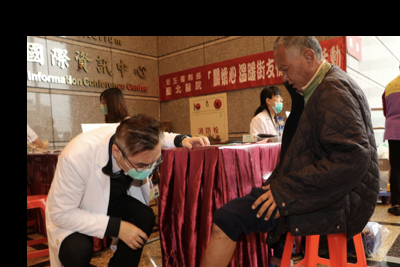with_mask: (121, 152, 161, 181), (270, 95, 283, 114), (99, 100, 110, 116)
without_mask: (275, 62, 310, 93)
